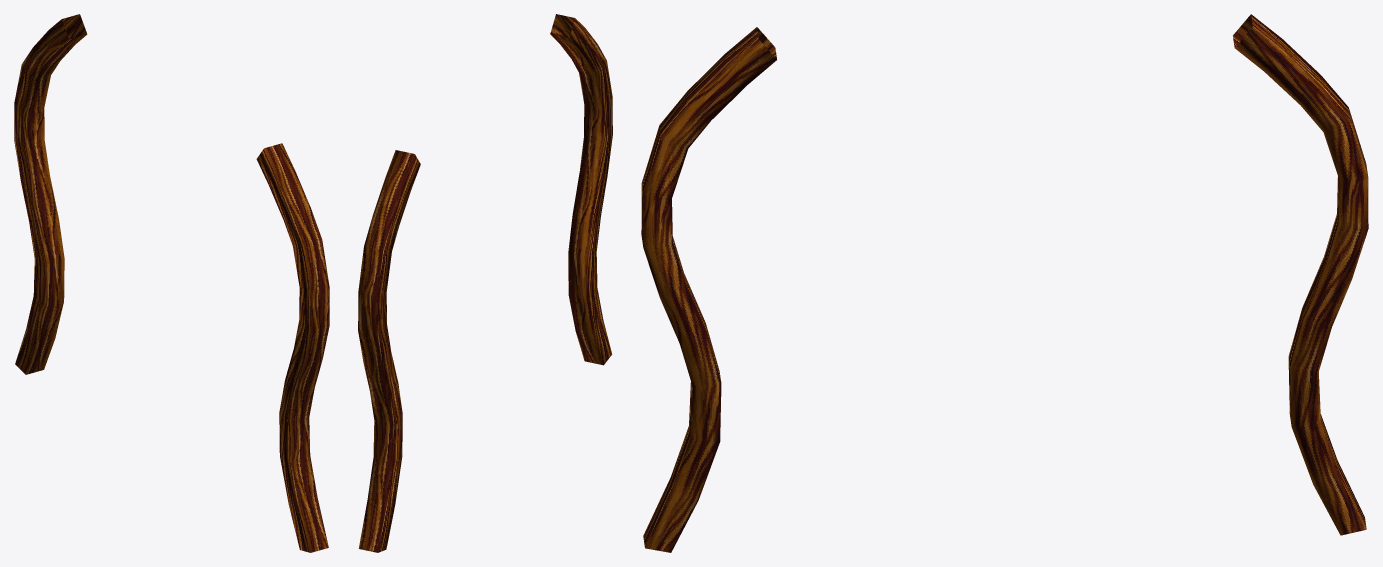
The model's file is EKH_BARRELROOM_PS_JA1_ARCHPIECESTOP.fbx.
3 renders of one model, left to right at view 1: azimuth 30°, elevation 25°; view 2: azimuth 150°, elevation 25°; view 3: azimuth 270°, elevation 25°, orthographic. The views are drawn at different scales.
Parts seen in each view (by area): view 1: EKH_BARRELROOM_PS_JA1_ARCHPIECESTOP; view 2: EKH_BARRELROOM_PS_JA1_ARCHPIECESTOP; view 3: EKH_BARRELROOM_PS_JA1_ARCHPIECESTOP.
Part boxes in pixels (x1,y1,x2,y2): EKH_BARRELROOM_PS_JA1_ARCHPIECESTOP: (14, 14, 329, 552); EKH_BARRELROOM_PS_JA1_ARCHPIECESTOP: (358, 14, 612, 552); EKH_BARRELROOM_PS_JA1_ARCHPIECESTOP: (641, 14, 1368, 552).
Bounding box in the file's own units: 2025 × 15461 × 19920.
1 material, 1 textured.
